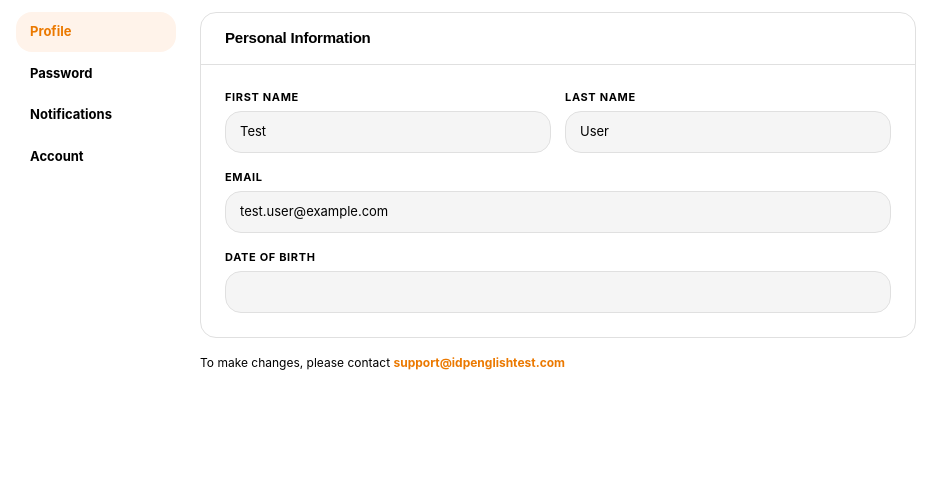
Test case: Settings › Password Tab › displays success message on successful password change
The width and height of the screenshot is (933, 496).
Click the tab "Password". click: (96, 73)
box: x1=16 y1=54 x2=176 y2=93
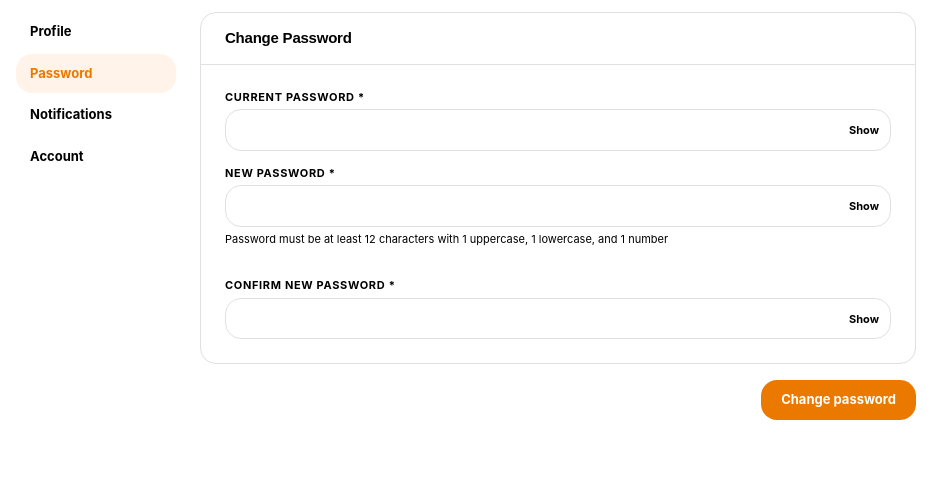
Type "OldPass123!" into the password field labelled "Current Password *". click: (558, 130)
box: x1=225 y1=109 x2=891 y2=151
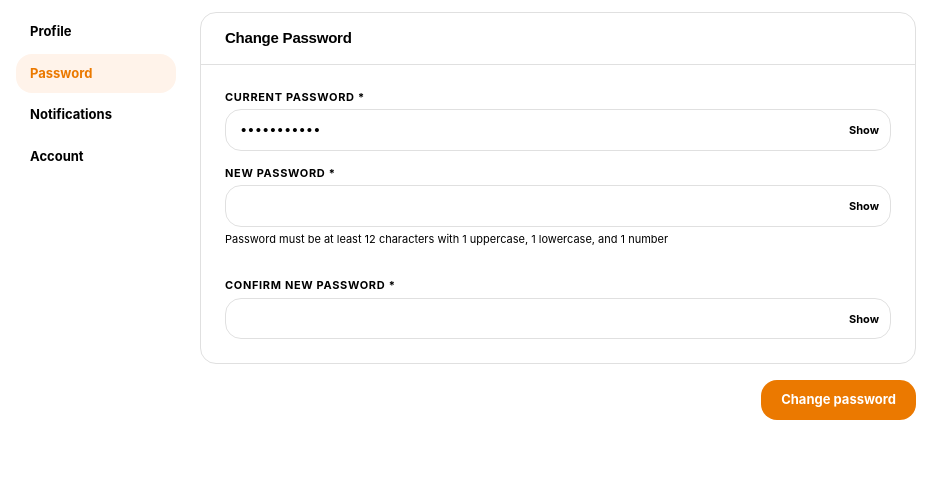
Type "NewPassword123!" into the password field with id "new-password". click: (558, 206)
box: x1=225 y1=185 x2=891 y2=227
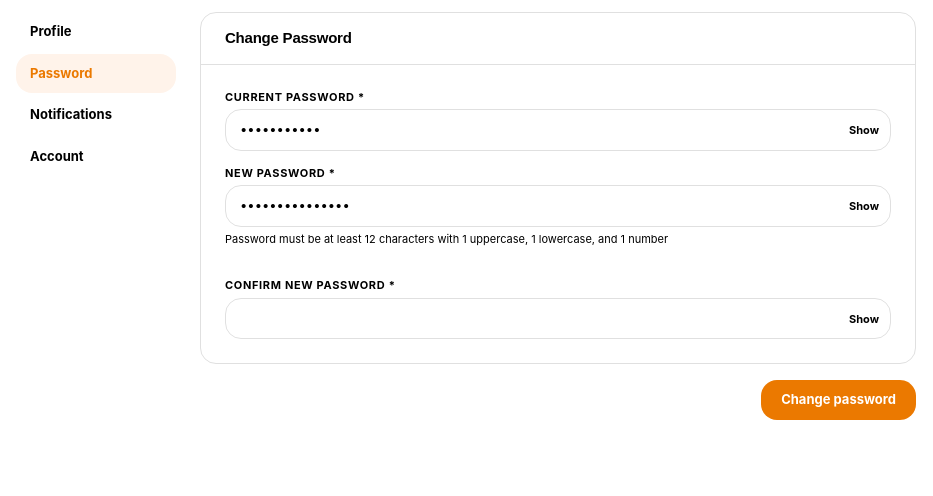
Type "NewPassword123!" into the password field labelled "Confirm New Password *". click: (558, 319)
box: x1=225 y1=298 x2=891 y2=339
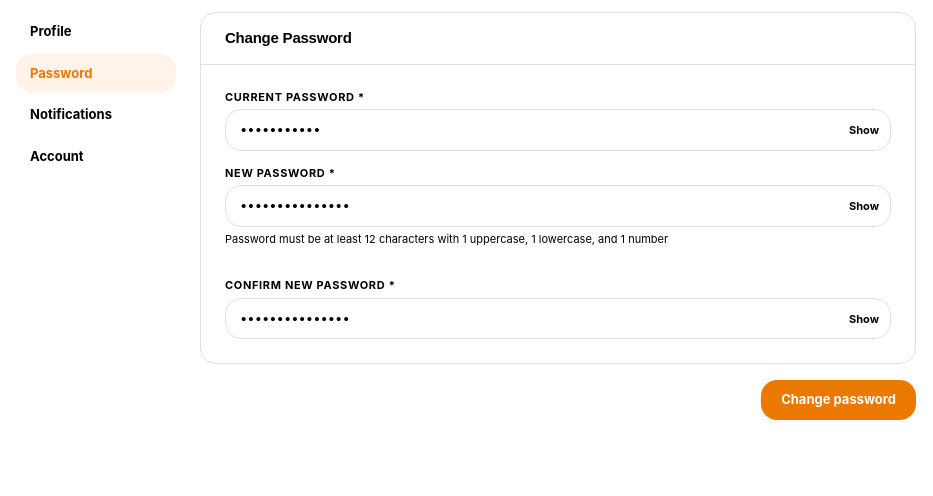
Click the button "Change password". click: (839, 400)
box: x1=761 y1=380 x2=916 y2=420
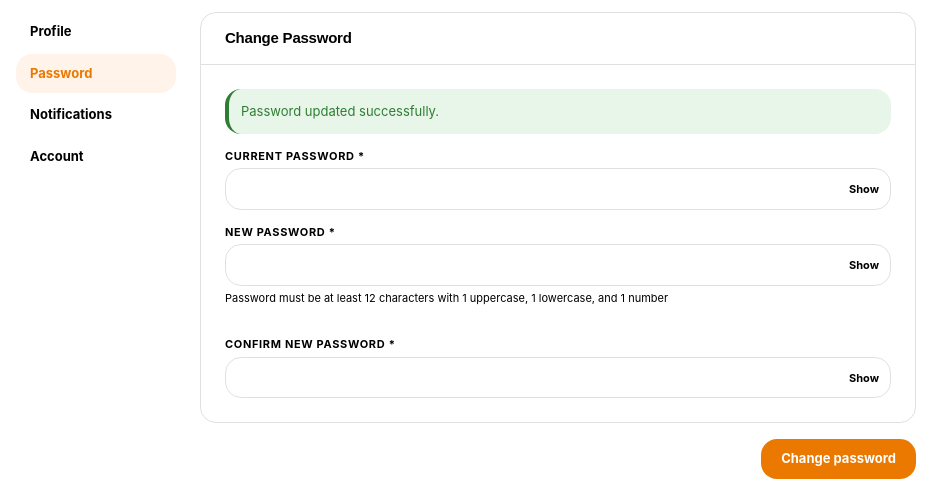
expect the text "Password updated successfully." is shown: met, box x1=241 y1=103 x2=439 y2=119
